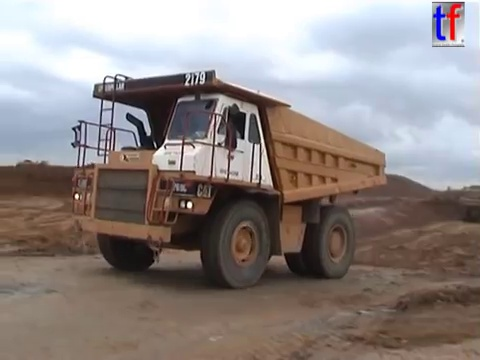truck: (67, 66, 389, 291), (457, 184, 480, 225)
